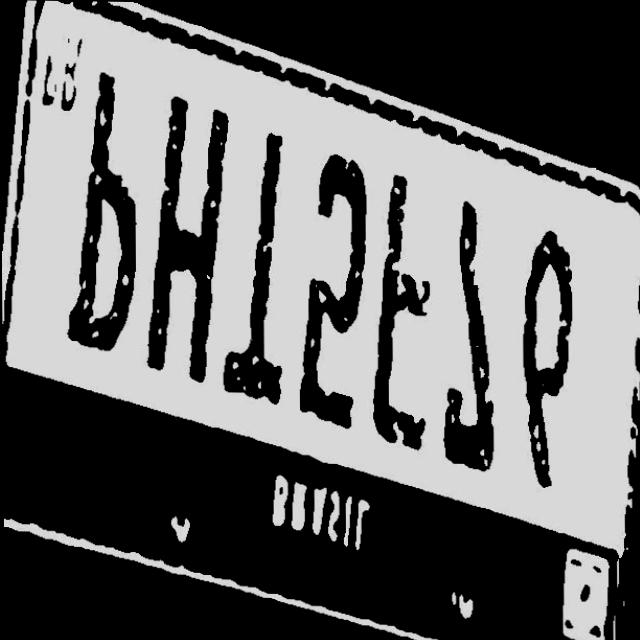5: (297, 134, 371, 431)
6: (510, 224, 583, 495)
7: (437, 200, 511, 474)
f: (370, 176, 434, 453)
h: (144, 95, 235, 382)
p: (63, 61, 140, 363)
t: (224, 128, 300, 411)
